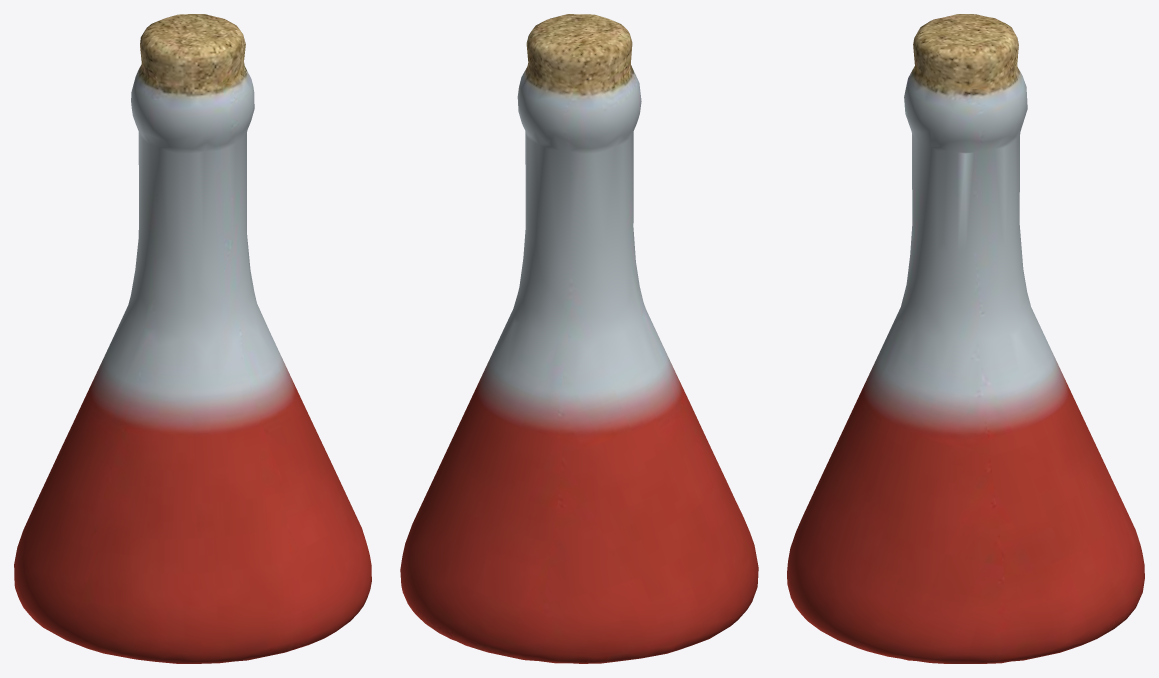
The model's file is potion_vigor.glb.
The picture shows the model from 3 angles, left to right: view 1: azimuth 30°, elevation 25°; view 2: azimuth 150°, elevation 25°; view 3: azimuth 270°, elevation 25°; orthographic projection.
Parts seen in each view (by area): view 1: potion_vigor; view 2: potion_vigor; view 3: potion_vigor.
Boxes of the visible parts, left/top/right/bottom form: potion_vigor: left=14, top=14, right=371, bottom=663; potion_vigor: left=400, top=14, right=758, bottom=663; potion_vigor: left=787, top=14, right=1144, bottom=663.
Size of the model in its own units: 0.0749 by 0.13 by 0.0749.
Materials: 1 (1 with a texture image).
